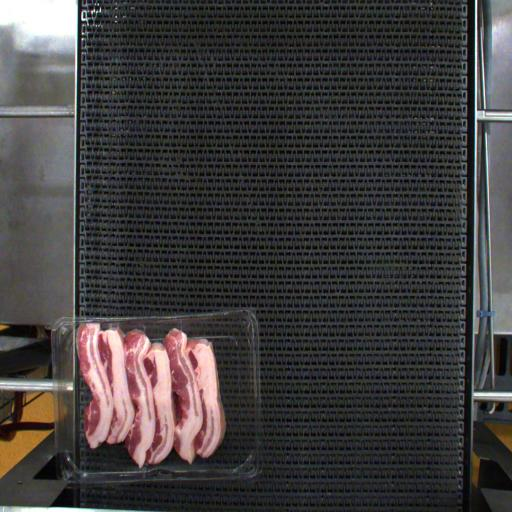packaging-error: (96, 314, 127, 330), (74, 316, 98, 336)
